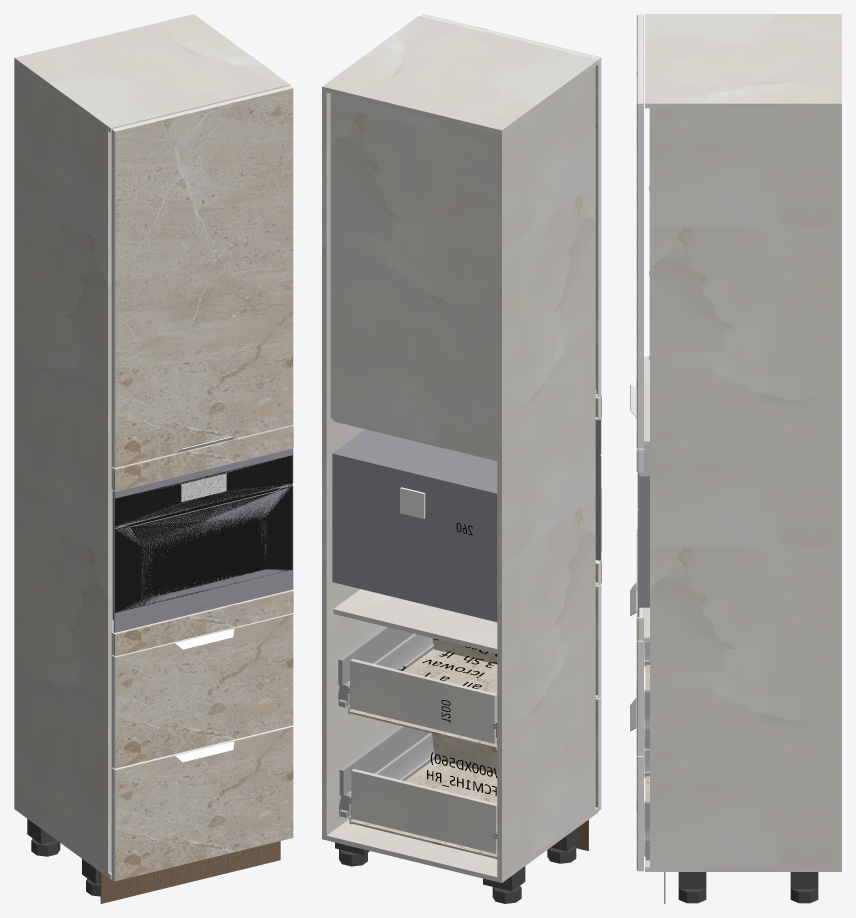
The model's file is TC3S2EHSFCM1HS_RH (H2400xW600XD560).glb.
The picture shows the model from 3 angles, left to right: view 1: azimuth 30°, elevation 25°; view 2: azimuth 150°, elevation 25°; view 3: azimuth 270°, elevation 25°; orthographic projection. The views are drawn at different scales.
Size of what is drawn, in the model's own units: 0.6 by 2.5 by 0.5999.
14 materials, 3 textured.
